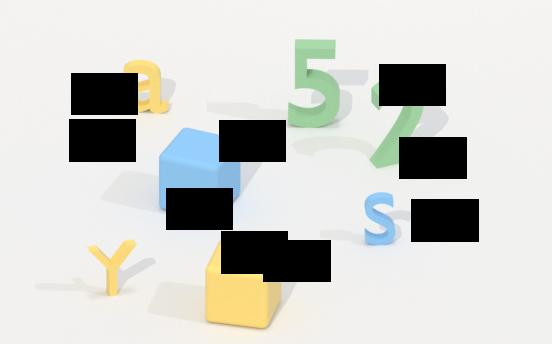2: (363, 74, 437, 171)
5: (285, 37, 344, 132)
Y-hoa: (84, 237, 141, 299)
a: (119, 59, 171, 118)
hop: (150, 128, 244, 220), (197, 237, 289, 331)
s: (359, 190, 401, 248)
